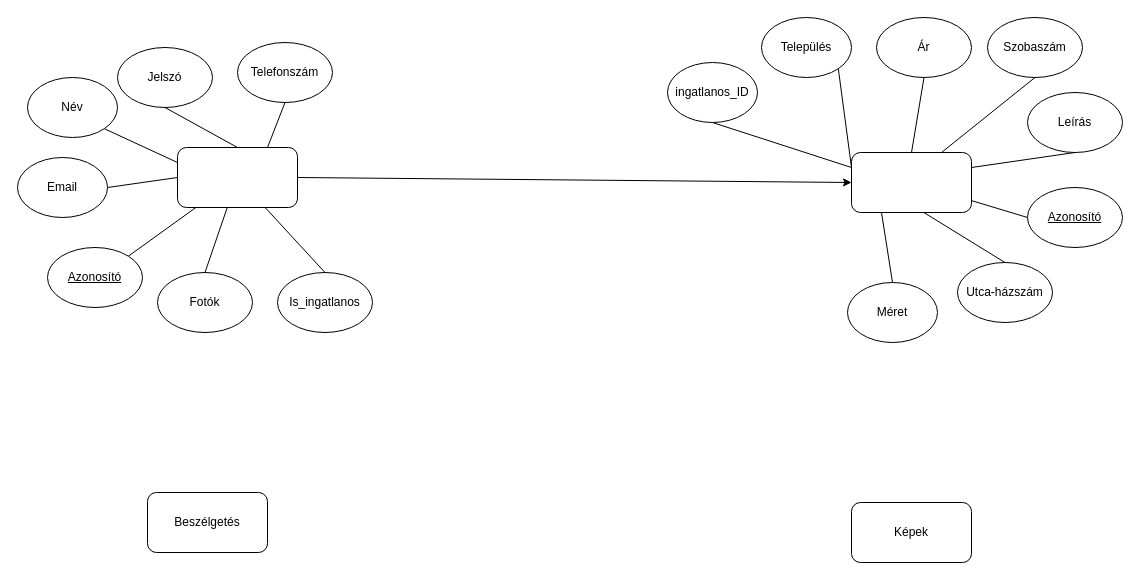
Image size: 1140x580. Some labels were removed from this diagram. Each missing label, with the centre of its shape:
"Felhasználó" belongs at point 237,177.
"Lakás/albérlet" belongs at point 911,182.
